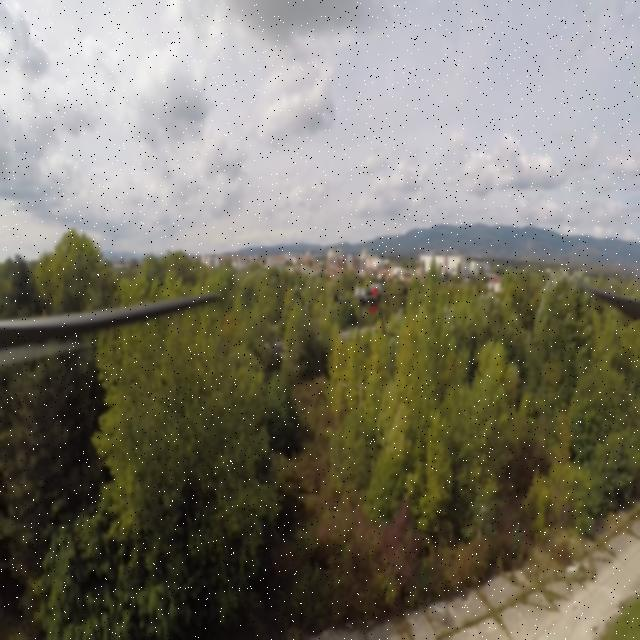UAV: (329, 279, 409, 351)
